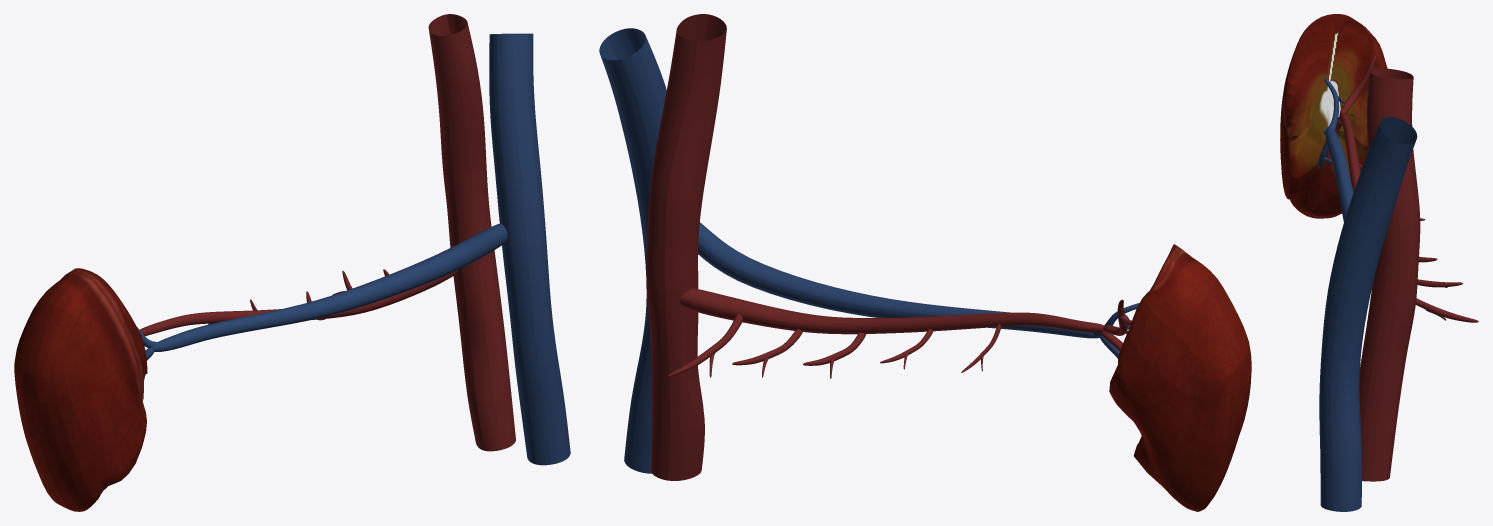
The model's file is Sanguini.FBX.
3 views of the same model, side by side, from view 1: azimuth 30°, elevation 25°; view 2: azimuth 150°, elevation 25°; view 3: azimuth 270°, elevation 25° (orthographic). The views are drawn at different scales.
Parts seen in each view (by area): view 1: CS_Veins, Fetge, CS_Arterie005; view 2: CS_Arterie005, Fetge, CS_Veins; view 3: CS_Veins, CS_Arterie005, Fetge.
Part boxes in pixels (x1=…): CS_Veins: x1=137, y1=33, x2=570, y2=465; Fetge: x1=14, y1=268, x2=147, y2=511; CS_Arterie005: x1=140, y1=14, x2=515, y2=451; CS_Arterie005: x1=646, y1=14, x2=1131, y2=480; Fetge: x1=1109, y1=244, x2=1251, y2=511; CS_Veins: x1=599, y1=28, x2=1139, y2=473; CS_Veins: x1=1318, y1=77, x2=1417, y2=511; CS_Arterie005: x1=1326, y1=55, x2=1478, y2=481; Fetge: x1=1280, y1=14, x2=1387, y2=218.
Bounding box in the file's own units: 17.2 × 13.02 × 5.82.
